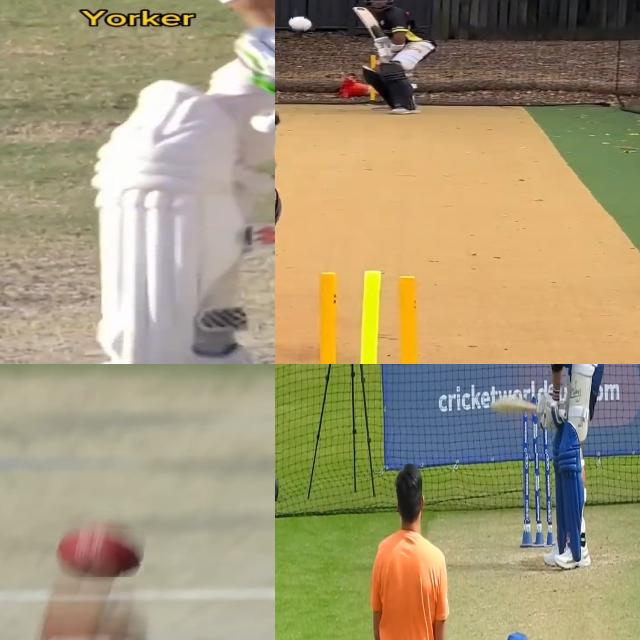Cricket ball: (54, 523, 144, 577), (285, 13, 315, 33)
Stumps: (299, 268, 436, 364), (523, 418, 552, 547)
